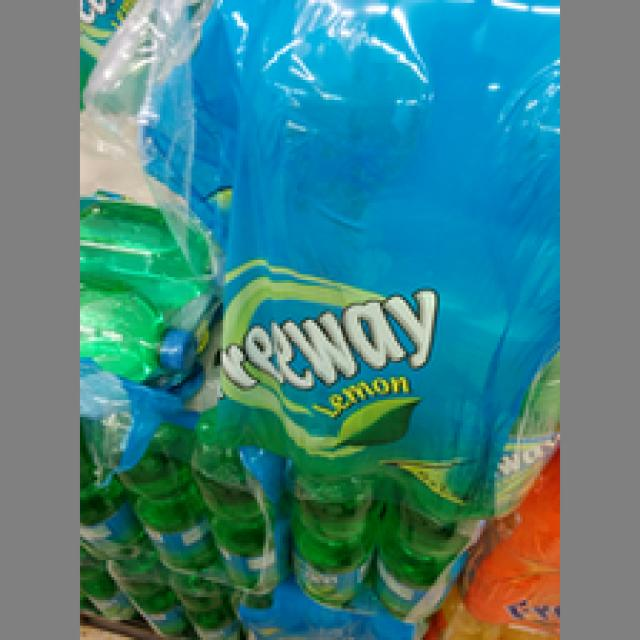groceries: (97, 394, 212, 569), (183, 409, 283, 594), (80, 192, 226, 297), (374, 452, 469, 612), (77, 268, 197, 386), (286, 446, 374, 600)
